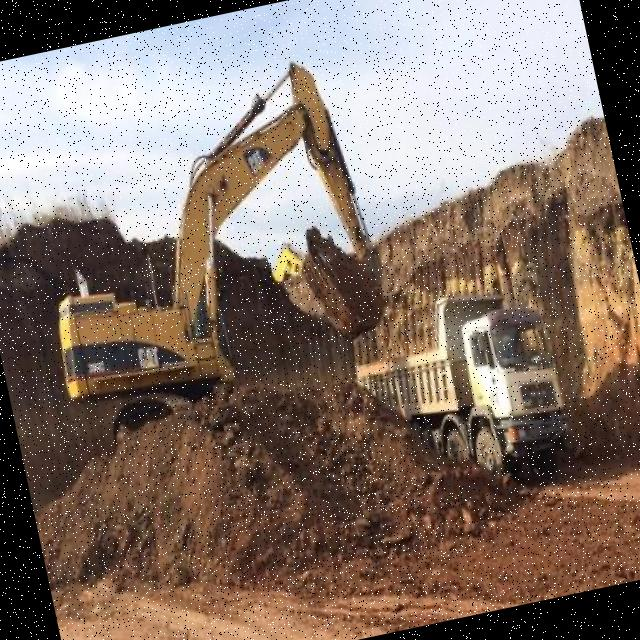Dump Truck: (342, 264, 586, 520)
Excavator: (4, 45, 413, 491)
